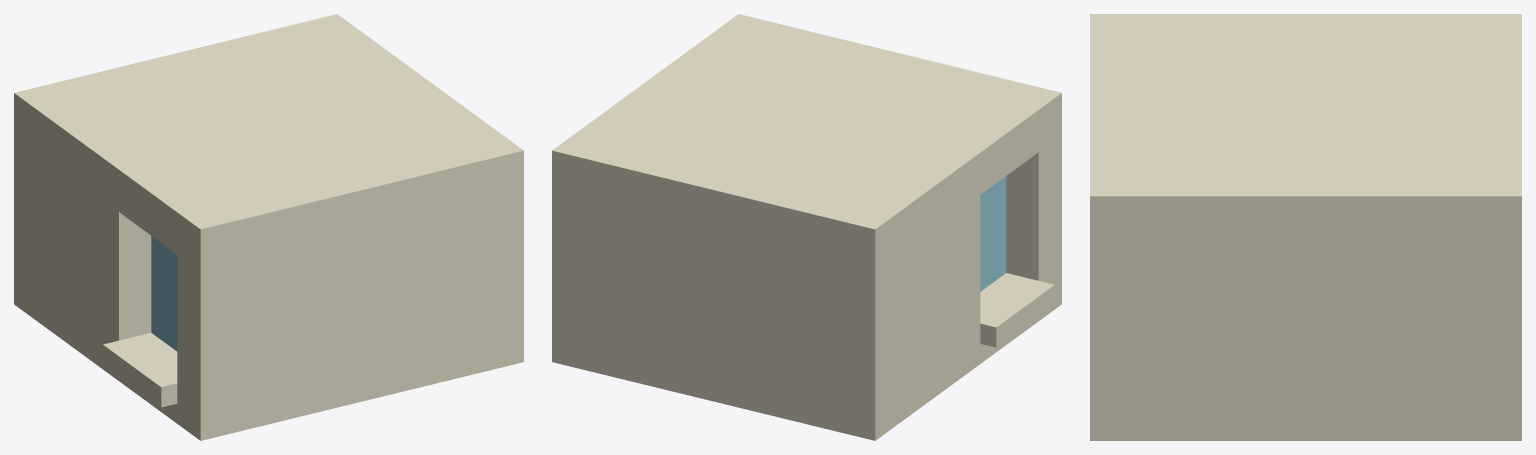
Rendered from modularBuildings_067.fbx.
3 views of the same model, side by side, from view 1: azimuth 30°, elevation 25°; view 2: azimuth 150°, elevation 25°; view 3: azimuth 270°, elevation 25° (orthographic). The views are drawn at different scales.
Parts seen in each view (by area): view 1: Mesh1_Group1 Model; view 2: Mesh1_Group1 Model; view 3: Mesh1_Group1 Model.
Part boxes in pixels (x1,y1,x2,y2): Mesh1_Group1 Model: (14, 14, 523, 440); Mesh1_Group1 Model: (552, 14, 1061, 440); Mesh1_Group1 Model: (1090, 14, 1521, 440).
Size of the model in its own units: 1.05 by 0.625 by 1.
